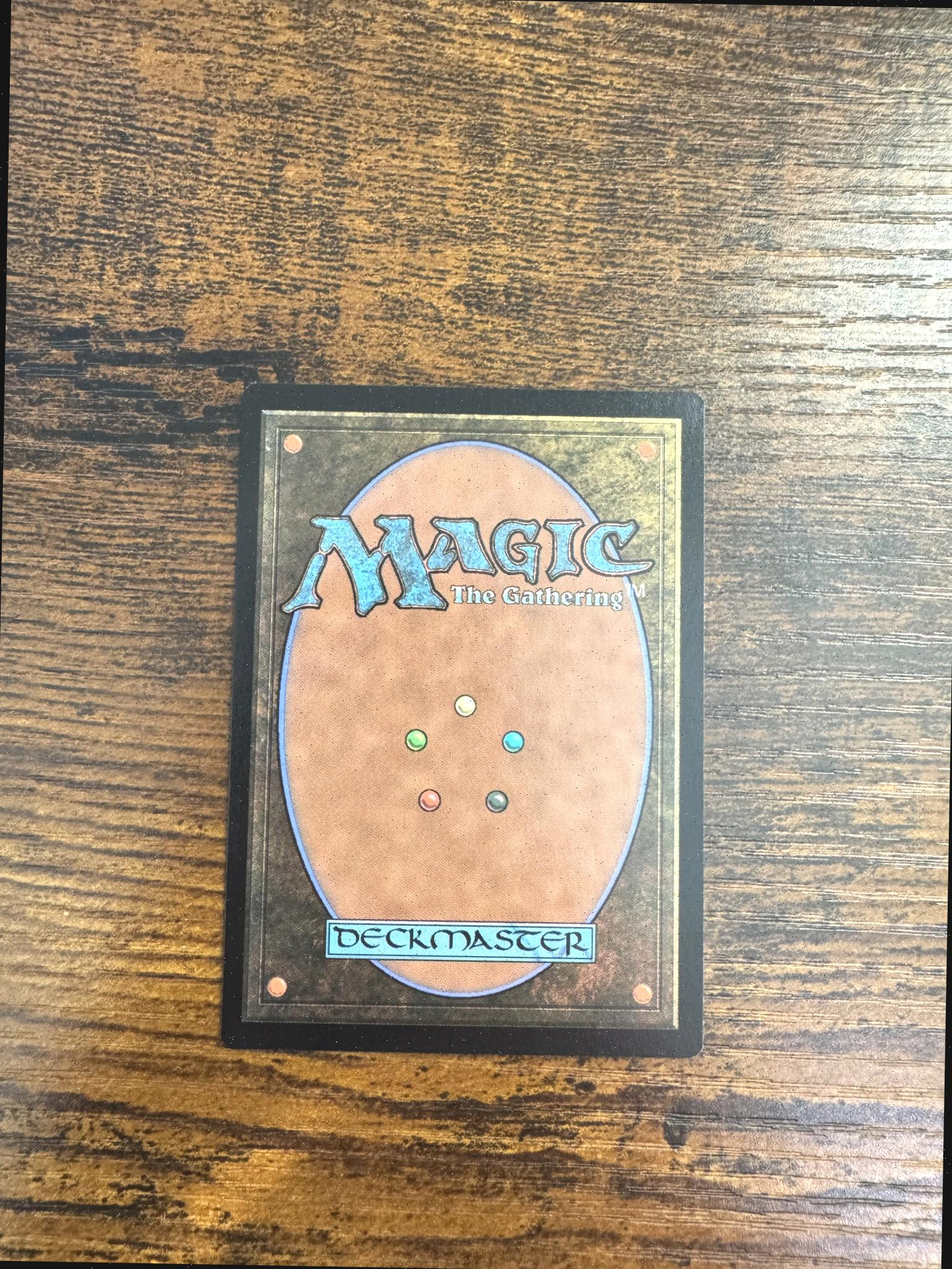card-2UtV: (221, 382, 704, 1058)
